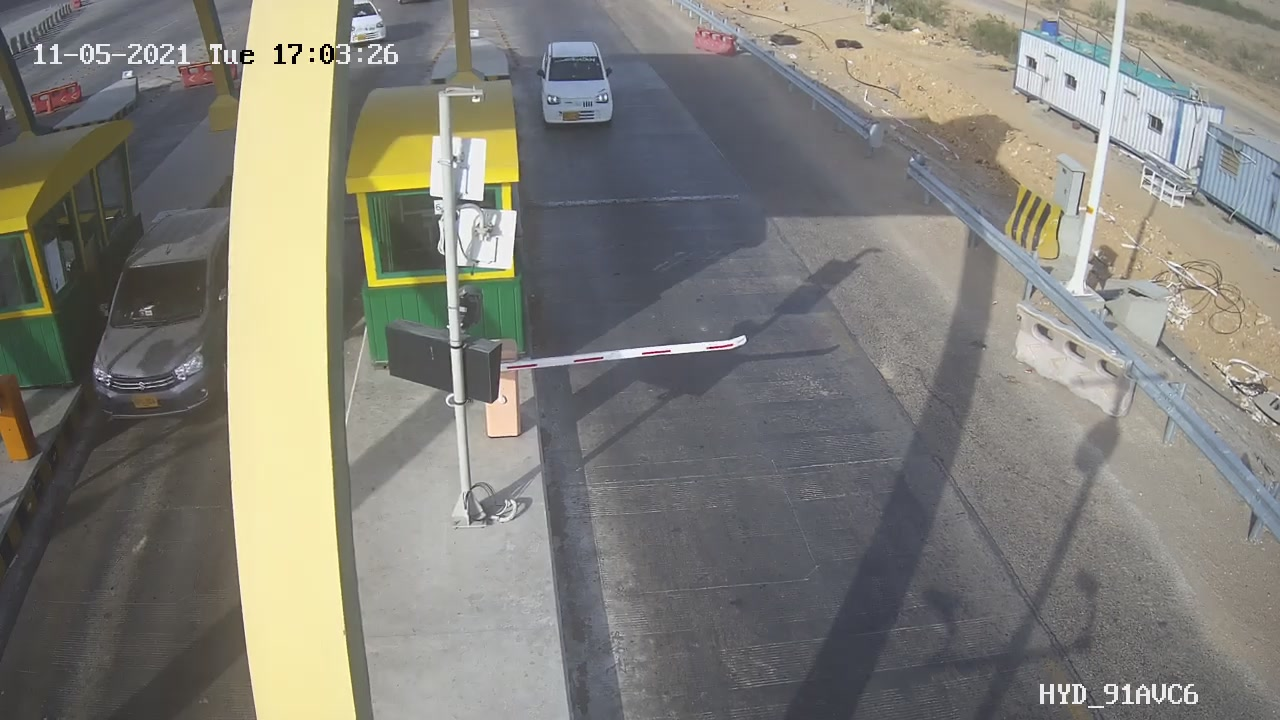F1: (525, 33, 630, 143)
